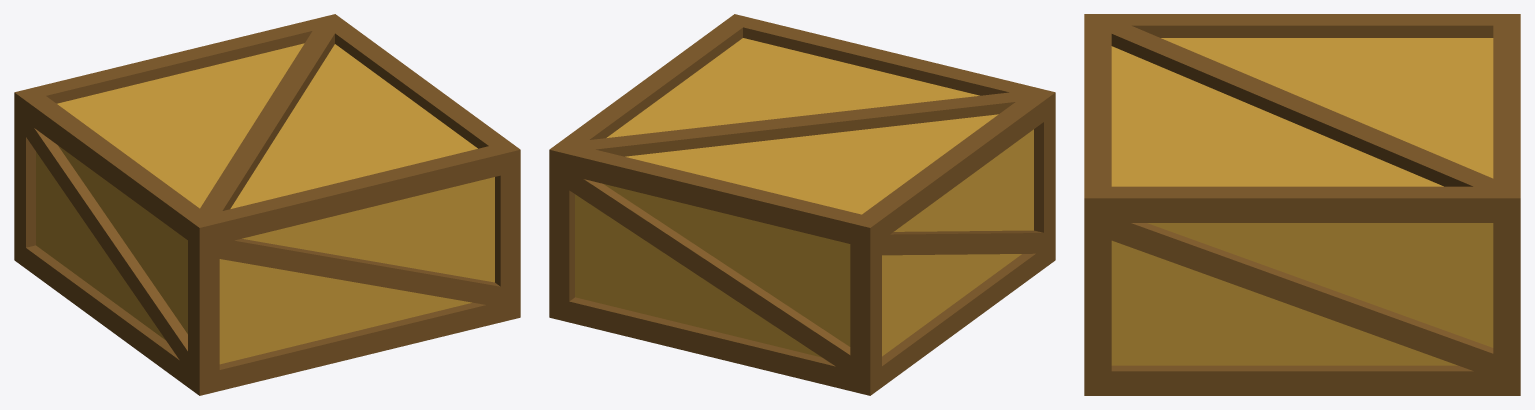
Rendered from LargeCrate.obj.
3 views of the same model, side by side, from view 1: azimuth 30°, elevation 25°; view 2: azimuth 150°, elevation 25°; view 3: azimuth 270°, elevation 25° (orthographic). The views are drawn at different scales.
Visible parts, largest first — view 1: LargeCrate_Cube.002; view 2: LargeCrate_Cube.002; view 3: LargeCrate_Cube.002.
Part boxes in pixels (x1,y1,x2,y2): LargeCrate_Cube.002: [14, 14, 520, 395]; LargeCrate_Cube.002: [549, 14, 1055, 395]; LargeCrate_Cube.002: [1084, 14, 1520, 395].
Size of the model in its own units: 2 by 1 by 2.
